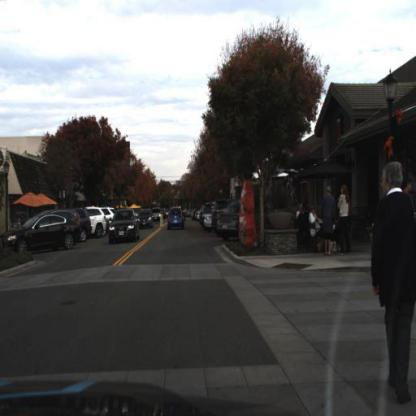car: (4, 209, 82, 256), (106, 206, 141, 244), (215, 202, 242, 242), (82, 205, 109, 238), (78, 207, 96, 243), (91, 203, 108, 241), (167, 205, 188, 233), (137, 208, 155, 231)
pedestrian: (372, 160, 416, 409), (319, 183, 340, 260), (338, 185, 355, 260), (308, 207, 326, 249)
